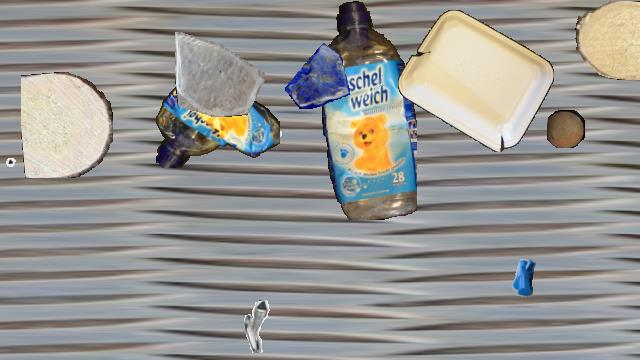glass: (175, 27, 265, 117), (284, 42, 350, 108)
metal: (345, 98, 405, 158), (494, 246, 552, 304), (244, 299, 298, 353), (246, 100, 286, 140), (2, 156, 42, 196)
plastic: (398, 10, 554, 152), (322, 1, 416, 219), (154, 77, 280, 167)
wood: (21, 72, 113, 178), (575, 1, 640, 79), (547, 110, 585, 148)
